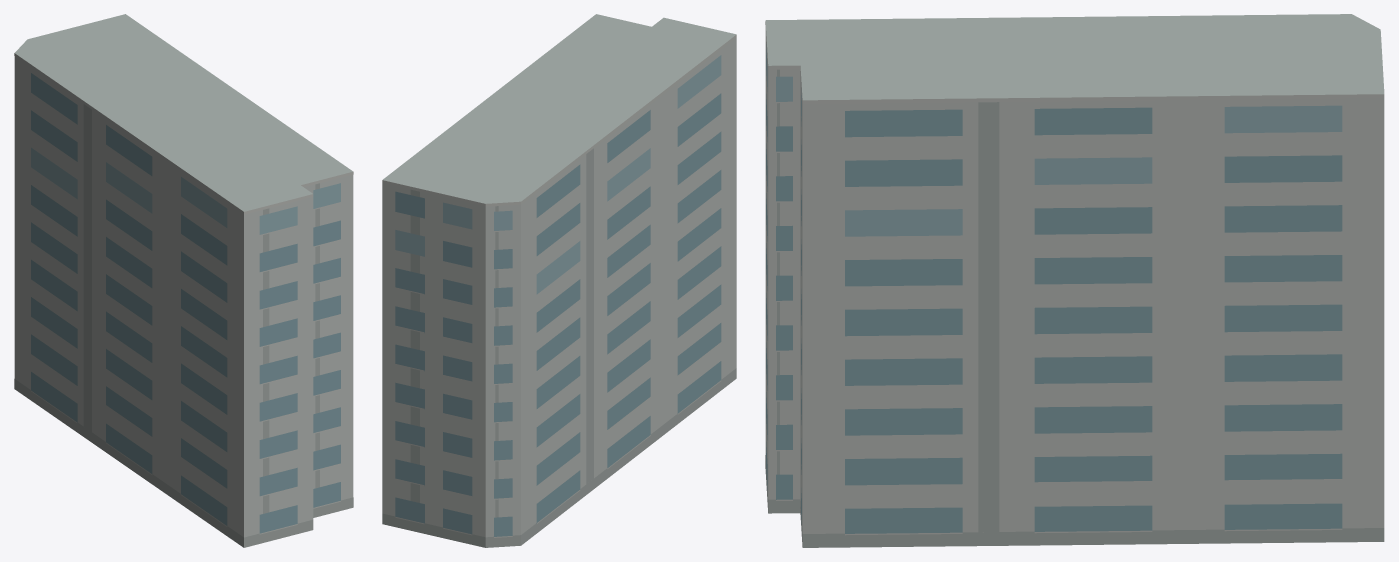
File: residential-605cf1a7-55b2-445e-a271-001263356b17.glb
The picture shows the model from 3 angles, left to right: view 1: azimuth 30°, elevation 25°; view 2: azimuth 150°, elevation 25°; view 3: azimuth 270°, elevation 25°; orthographic projection. The views are drawn at different scales.
Visible parts, largest first — view 1: residential-605cf1a7-55b2-445e-a271-001263356b17.tmp; view 2: residential-605cf1a7-55b2-445e-a271-001263356b17.tmp; view 3: residential-605cf1a7-55b2-445e-a271-001263356b17.tmp.
Part boxes in pixels (x1,y1,x2,y2): residential-605cf1a7-55b2-445e-a271-001263356b17.tmp: [14, 14, 353, 547]; residential-605cf1a7-55b2-445e-a271-001263356b17.tmp: [382, 14, 736, 547]; residential-605cf1a7-55b2-445e-a271-001263356b17.tmp: [765, 14, 1384, 547].
Size of the model in its own units: 11.59 by 28 by 35.1.
